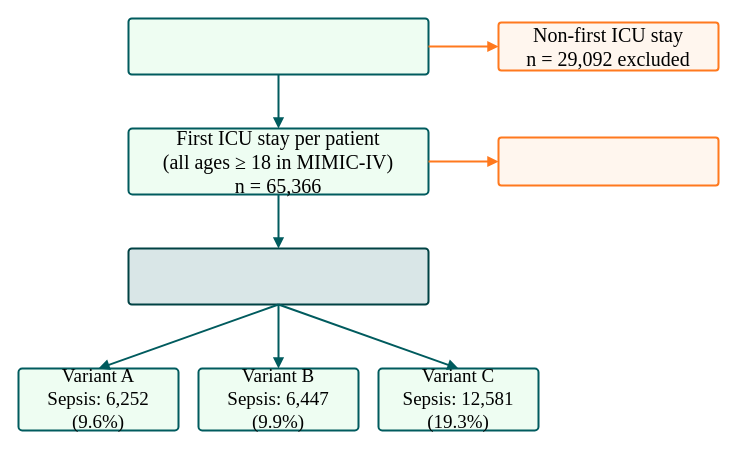
Image size: 736x450. Some labels were removed from this diagram. The centre of each missing label's shape, as x and y in pixels:
"Analysis cohort n = 65,078" belongs at point 278,276.
"LOS < 4 hours n = 288 excluded" belongs at point 608,161.
"MIMIC-IV v3.1 ICU stays n = 94,458" belongs at point 278,46.
